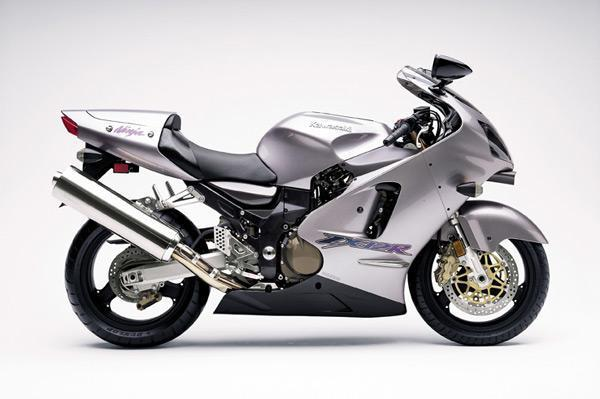motorcycle: (46, 49, 557, 358)
